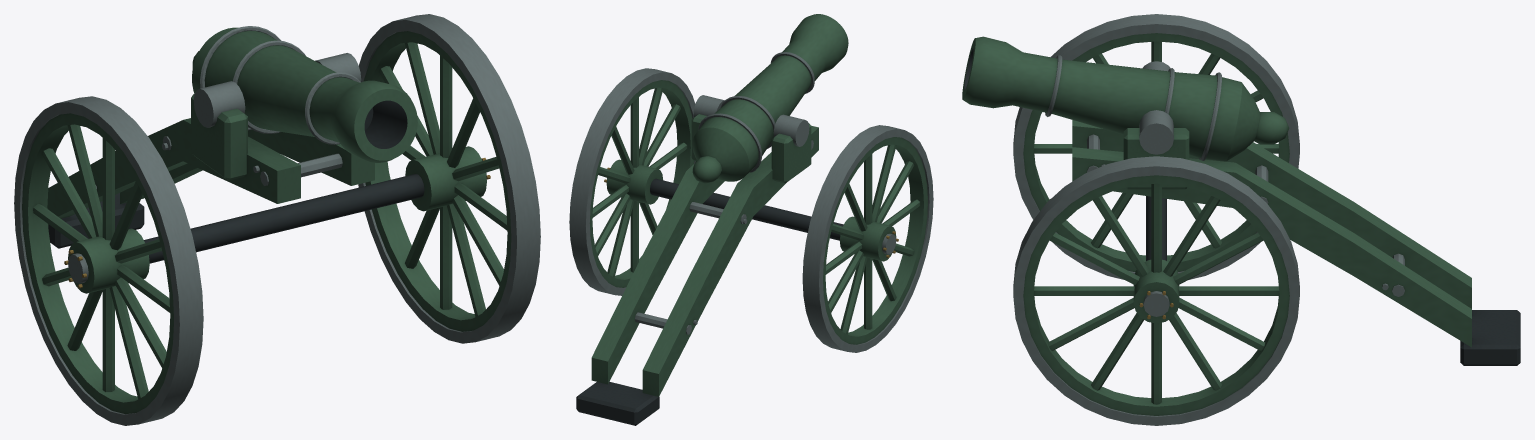
Rendered from cannon.obj.
3 renders of one model, left to right at view 1: azimuth 30°, elevation 25°; view 2: azimuth 150°, elevation 25°; view 3: azimuth 270°, elevation 25°, orthographic. The views are drawn at different scales.
Visible parts, largest first — view 1: cannon_static_0, cannon_wheel_left_1, cannon_wheel_right_2; view 2: cannon_static_0, cannon_wheel_left_1, cannon_wheel_right_2; view 3: cannon_static_0, cannon_wheel_right_2, cannon_wheel_left_1.
Boxes of the visible parts, box(x1,y1,x2,y2) form: cannon_static_0: box(47, 26, 424, 263); cannon_wheel_left_1: box(14, 96, 203, 425); cannon_wheel_right_2: box(358, 14, 540, 343); cannon_static_0: box(576, 14, 848, 425); cannon_wheel_left_1: box(802, 125, 933, 352); cannon_wheel_right_2: box(569, 68, 695, 295); cannon_static_0: box(962, 36, 1520, 365); cannon_wheel_right_2: box(1013, 156, 1299, 425); cannon_wheel_left_1: box(1013, 14, 1299, 279).
Bounding box in the file's own units: 1.54 × 1.3 × 2.12.
1 material, 1 textured.
